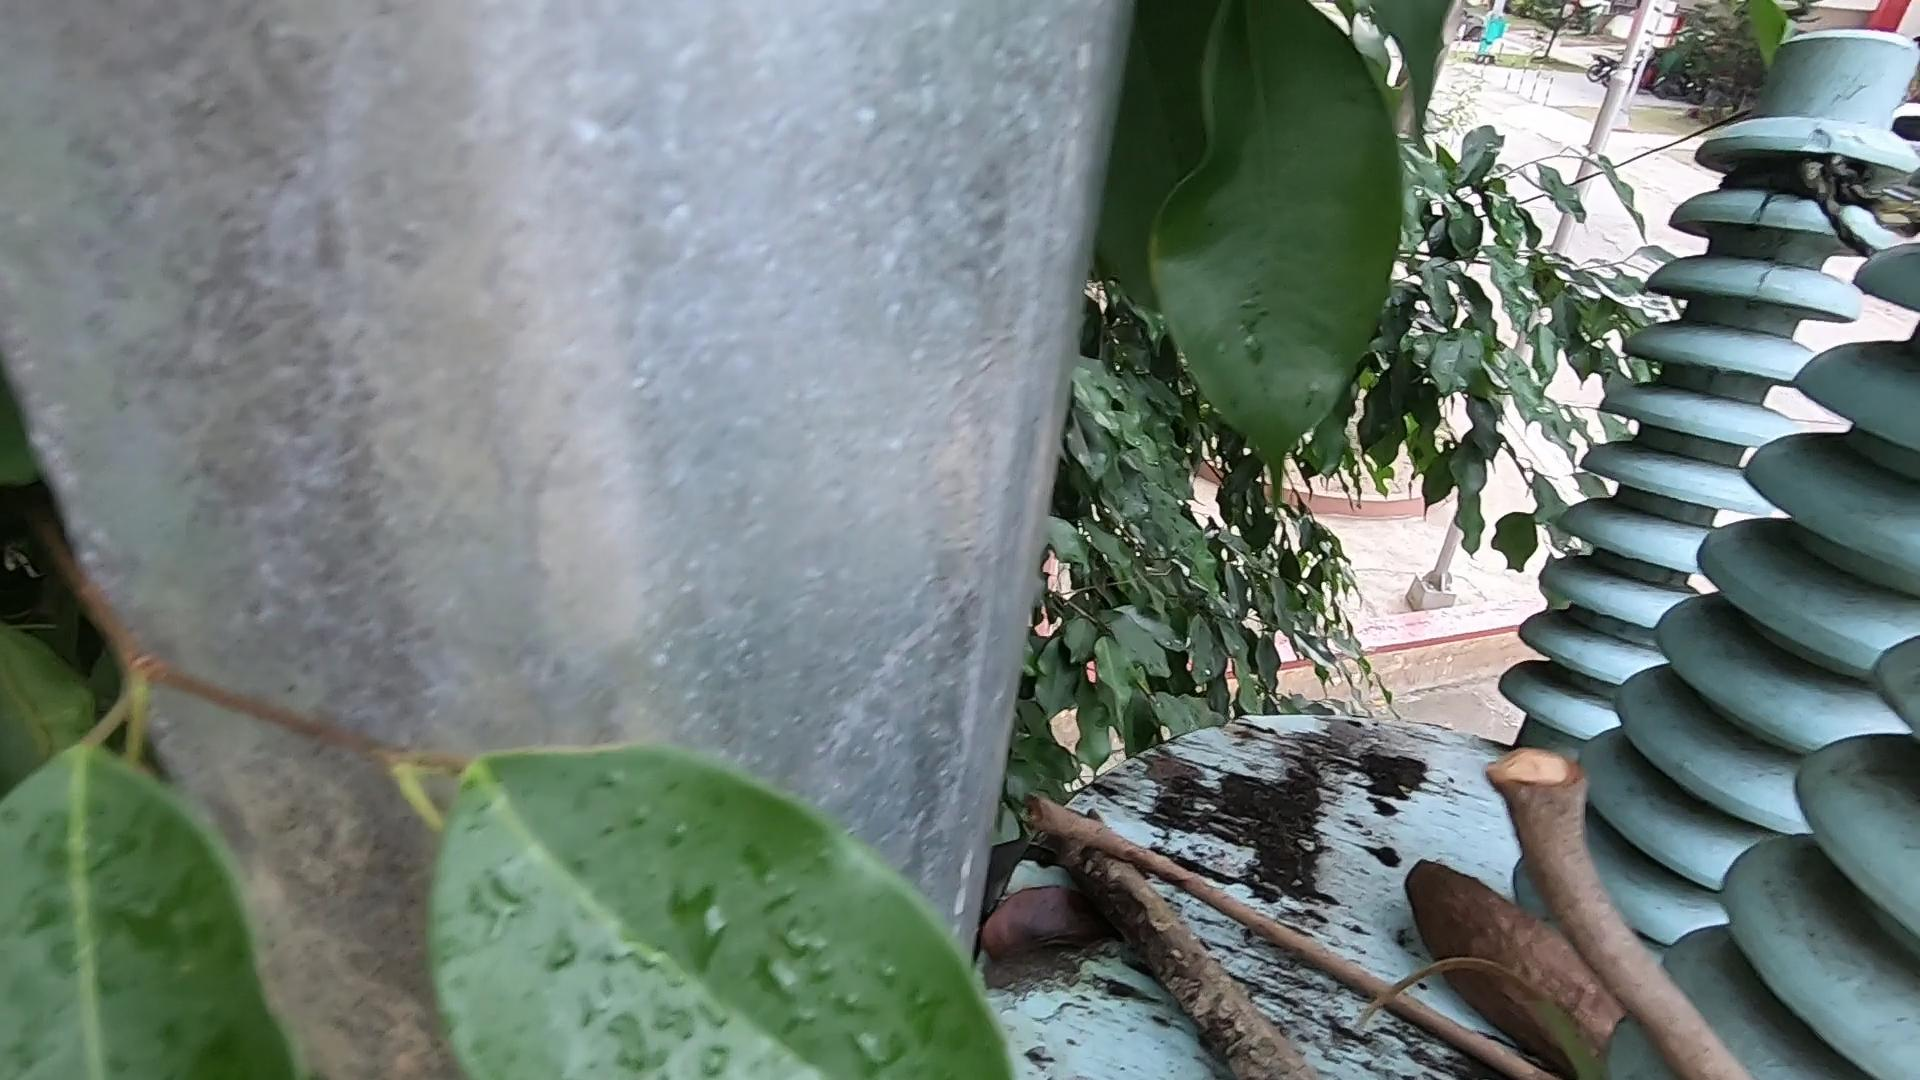branch with leaves: (1044, 798, 1270, 1076)
leaf: (982, 901, 1137, 961)
mahogany fruit: (1354, 778, 1662, 1062)
tree branch: (1033, 798, 1527, 1080), (1480, 740, 1793, 1080)
